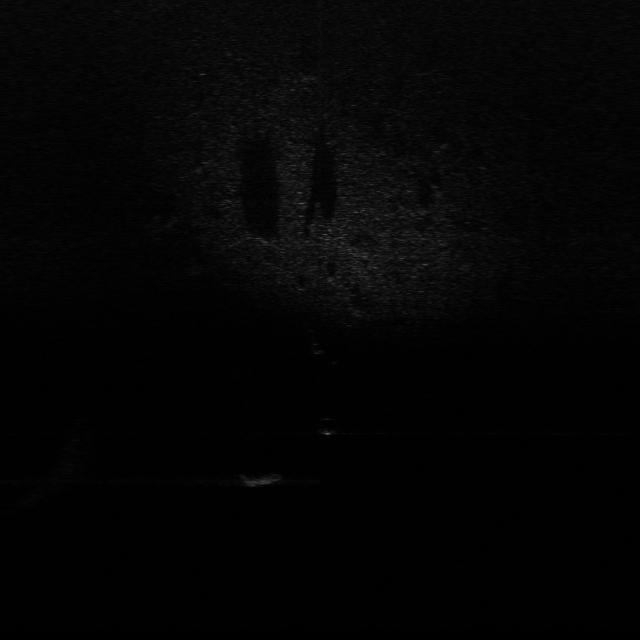ball: (314, 414, 342, 438)
circle cage: (232, 464, 296, 489)
human body: (306, 328, 346, 369)
